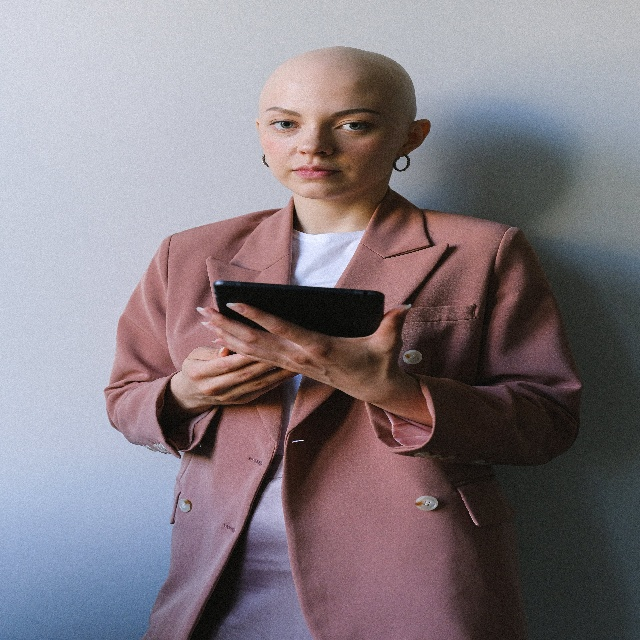Sin_guantes: (194, 299, 412, 416), (182, 344, 300, 405)
